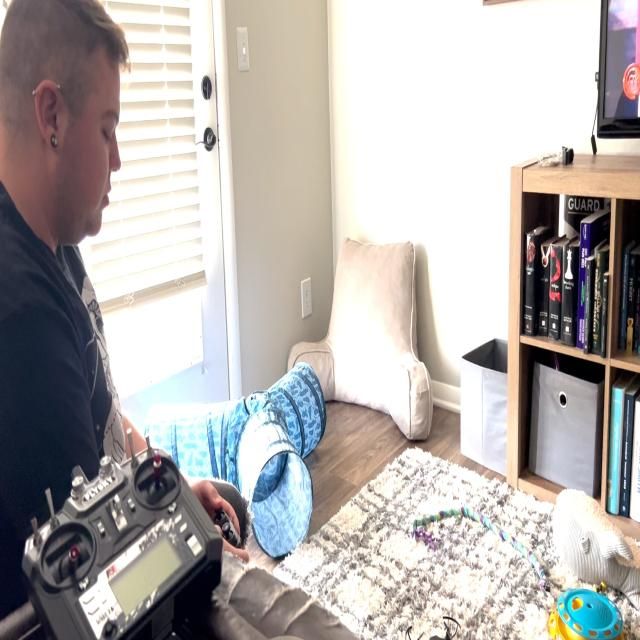drone: (398, 607, 471, 640)
